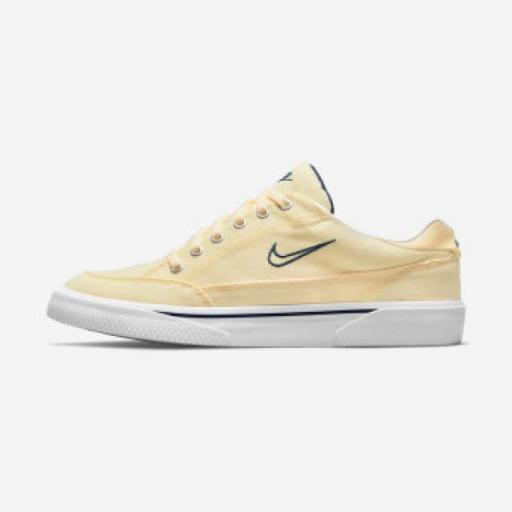Nike: (262, 235, 340, 271)
